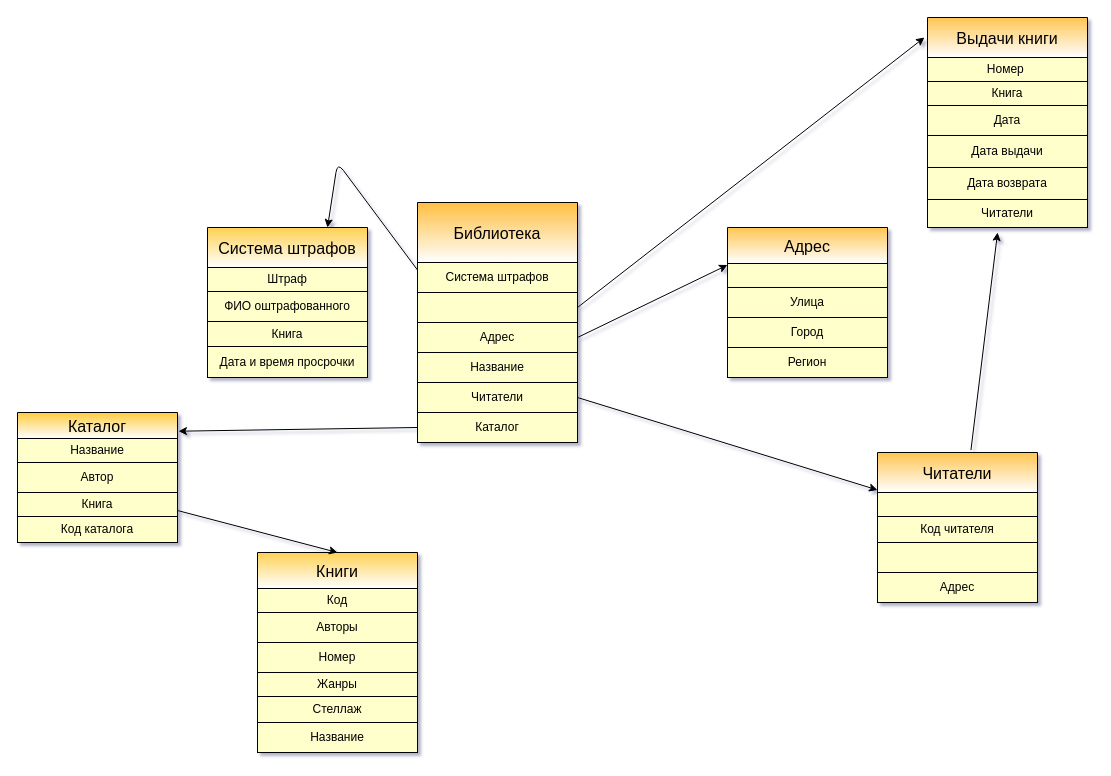
Some shapes in this 1111 by 776 pixel diagram are drawn without their labels. Each missing label, with the centre of its shape:
"Выдача" belongs at pixel 497 307.
"Дом" belongs at pixel 807 275.
"Номер телефона" belongs at pixel 957 557.
"ФИО" belongs at pixel 957 504.
